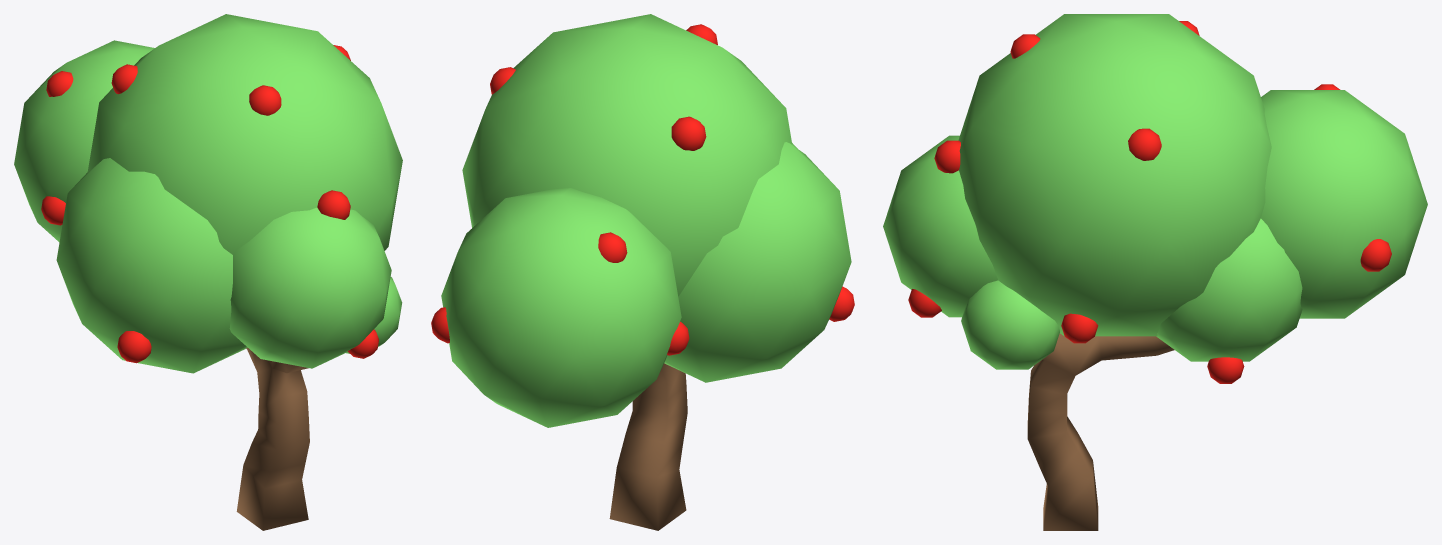
The model's file is FruitTree.fbx.
3 views of the same model, side by side, from view 1: azimuth 30°, elevation 25°; view 2: azimuth 150°, elevation 25°; view 3: azimuth 270°, elevation 25° (orthographic). The views are drawn at different scales.
Parts seen in each view (by area): view 1: Plane_LOD0; view 2: Plane_LOD0; view 3: Plane_LOD0.
Boxes of the visible parts, x1,y1,x2,y2 form: Plane_LOD0: (14,14,402,530); Plane_LOD0: (431,14,854,530); Plane_LOD0: (883,14,1427,530).
Size of what is drawn, in the model's own units: 771 by 1123 by 1122.
